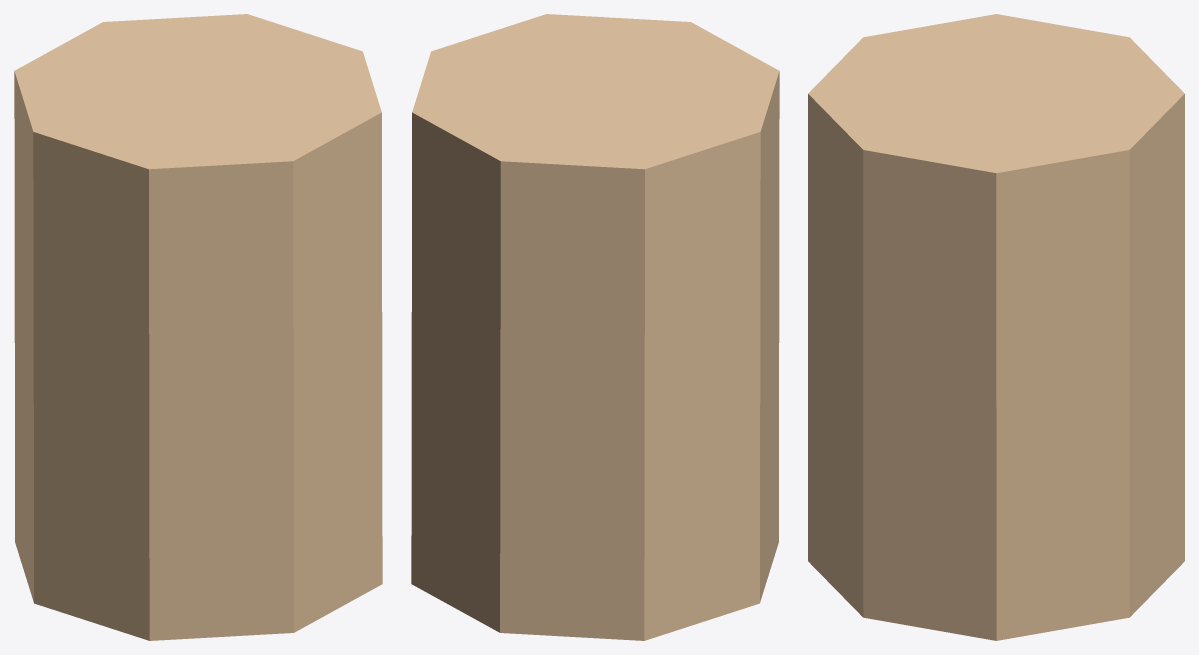
The model's file is Itr_Obj_Dispenser_Sauce_08.FBX.
3 renders of one model, left to right at view 1: azimuth 30°, elevation 25°; view 2: azimuth 150°, elevation 25°; view 3: azimuth 270°, elevation 25°, orthographic.
Parts seen in each view (by area): view 1: Itr_Obj_Dispenser_Sauce_08; view 2: Itr_Obj_Dispenser_Sauce_08; view 3: Itr_Obj_Dispenser_Sauce_08.
Part boxes in pixels (x1,y1,x2,y2): Itr_Obj_Dispenser_Sauce_08: [14, 14, 382, 640]; Itr_Obj_Dispenser_Sauce_08: [411, 14, 779, 640]; Itr_Obj_Dispenser_Sauce_08: [808, 14, 1184, 640].
Size of the model in its own units: 3.78 by 5.16 by 3.77.
